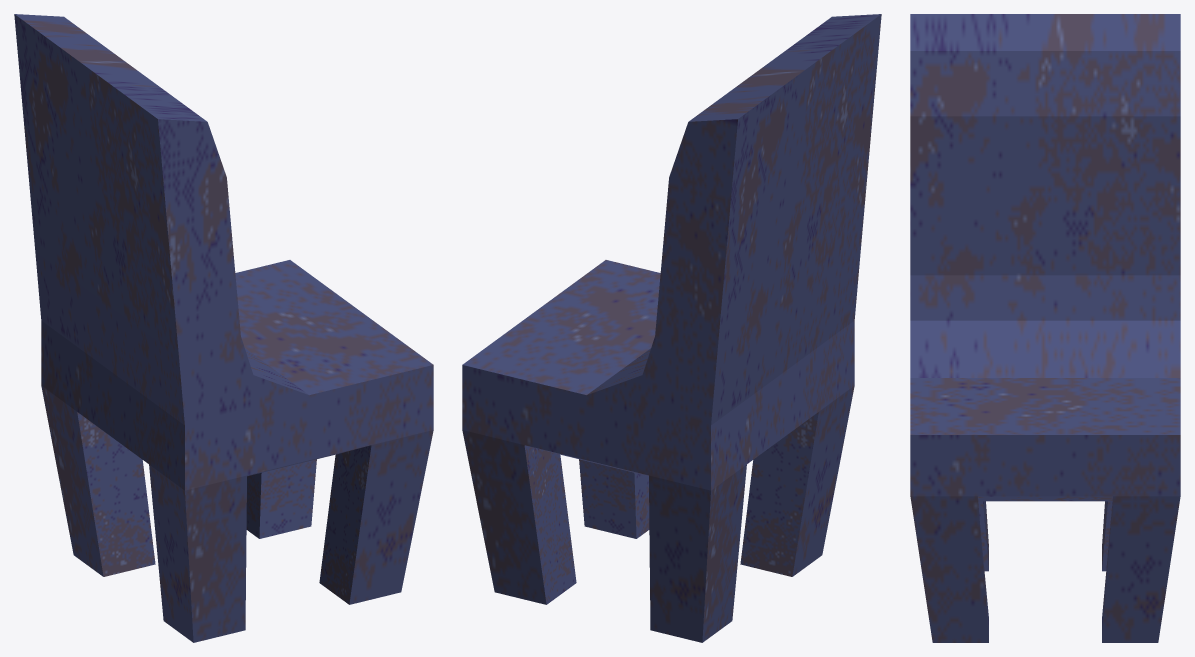
File: ChairBR.fbx
3 renders of one model, left to right at view 1: azimuth 30°, elevation 25°; view 2: azimuth 150°, elevation 25°; view 3: azimuth 270°, elevation 25°, orthographic. The views are drawn at different scales.
Parts seen in each view (by area): view 1: Chair; view 2: Chair; view 3: Chair.
Boxes of the visible parts, left/top/right/bottom form: Chair: left=14, top=14, right=433, bottom=642; Chair: left=462, top=14, right=881, bottom=642; Chair: left=910, top=14, right=1180, bottom=642.
Size of the model in its own units: 222 by 418 by 200.
1 material, 1 textured.
